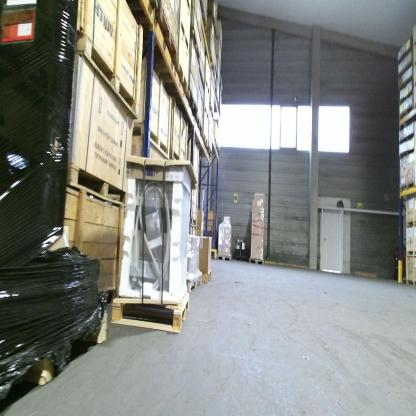pallet: (3, 301, 114, 415), (110, 290, 190, 336), (129, 6, 179, 62), (185, 272, 204, 293), (186, 90, 199, 116), (203, 47, 216, 72), (190, 30, 200, 59), (398, 106, 414, 123), (398, 76, 413, 94), (212, 135, 223, 158), (207, 8, 218, 31), (191, 136, 208, 149), (398, 89, 411, 105), (202, 268, 213, 286), (216, 253, 232, 265), (195, 116, 204, 136), (200, 145, 213, 158), (248, 256, 266, 265), (398, 64, 411, 76), (399, 183, 415, 191), (209, 103, 214, 115)
